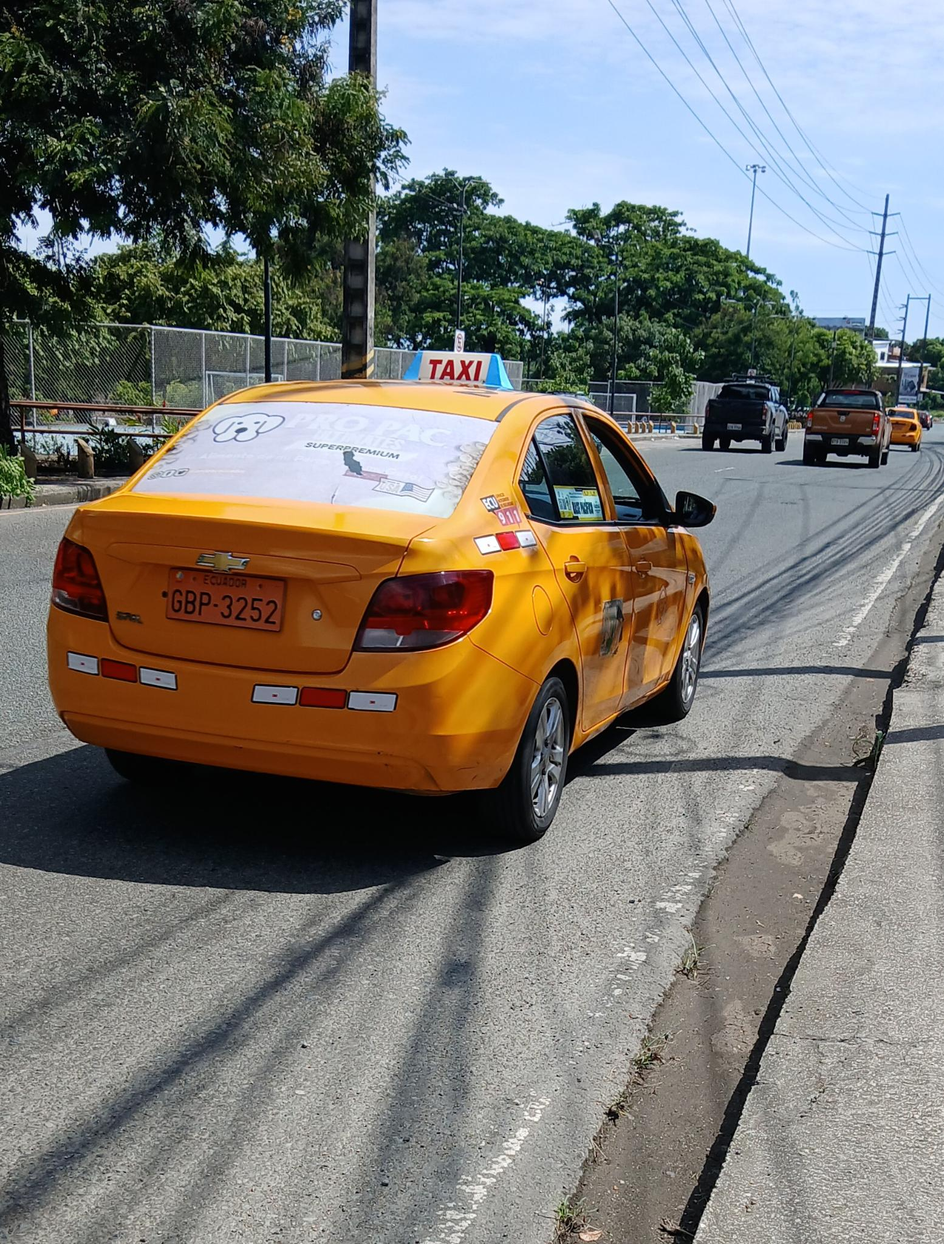license_plate: (164, 567, 287, 632), (829, 437, 852, 446), (727, 423, 741, 430)
